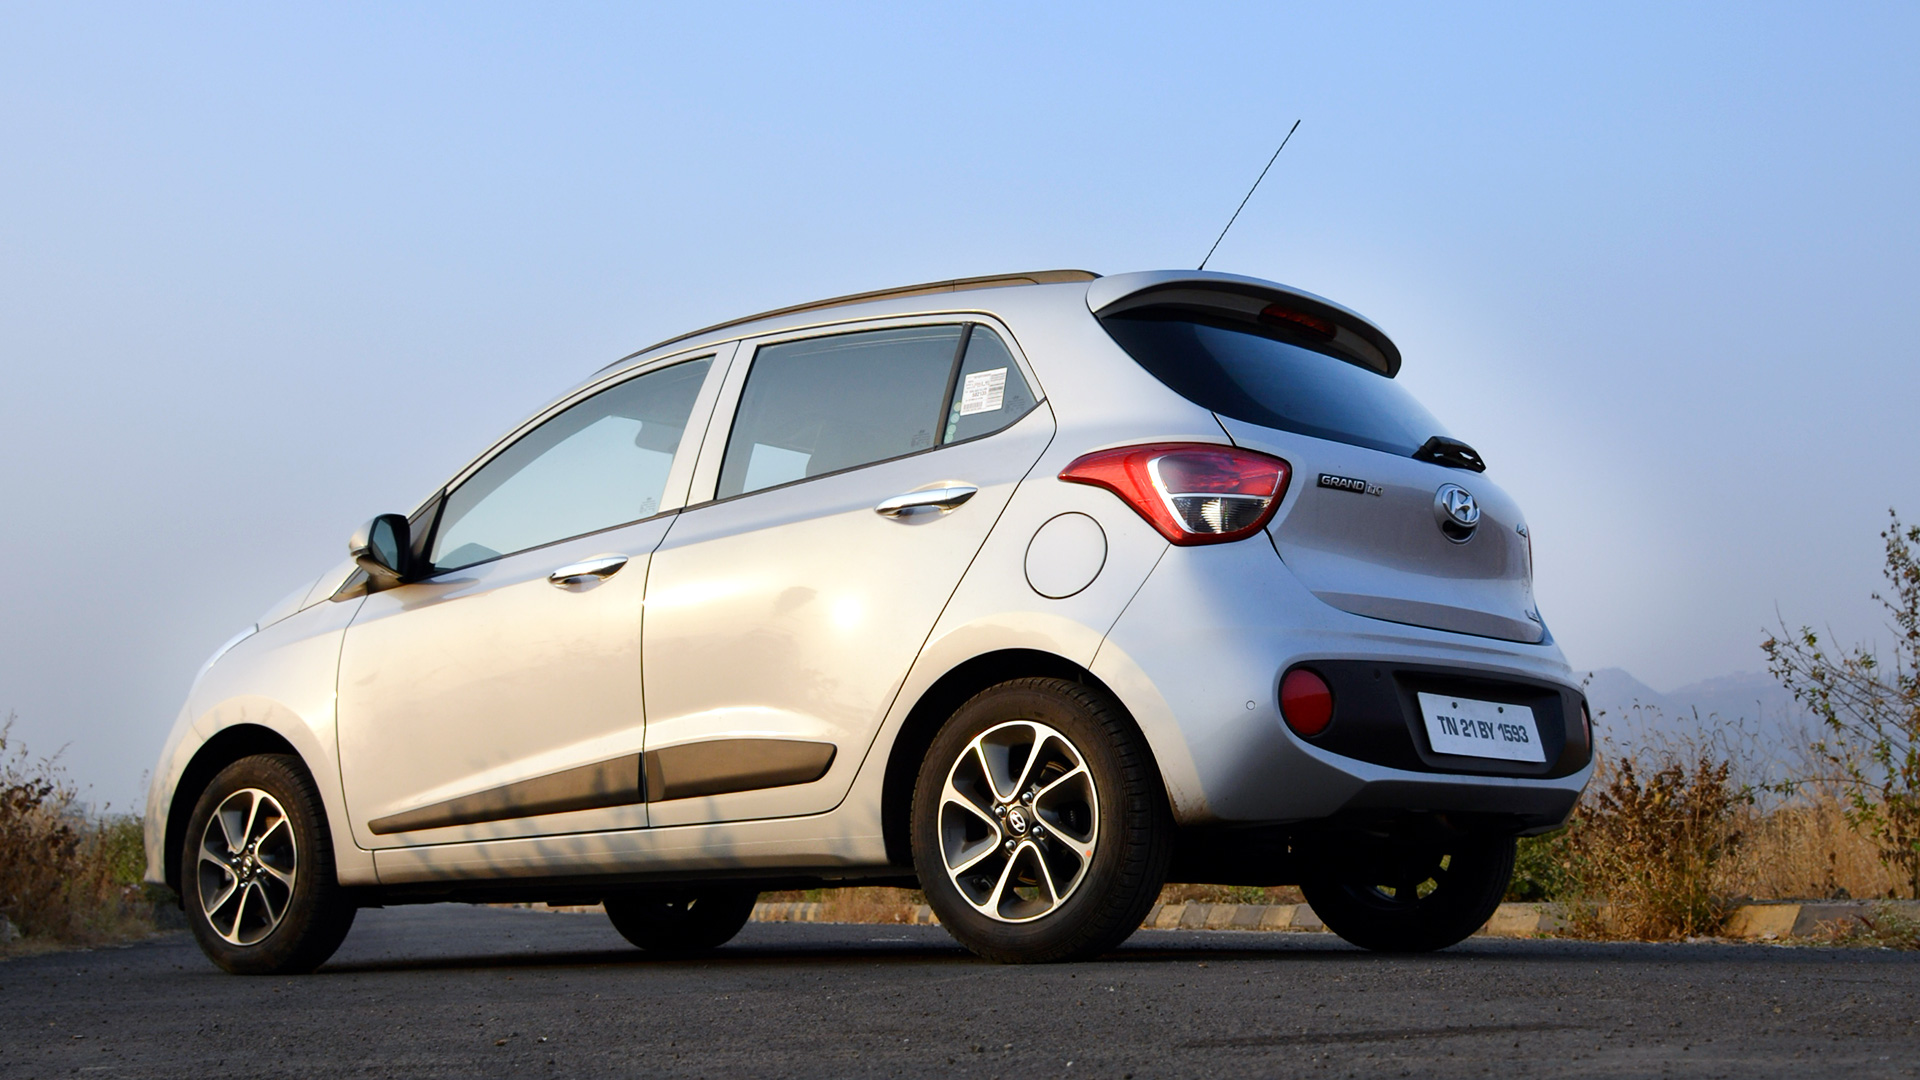i10: (117, 105, 1640, 1042)
